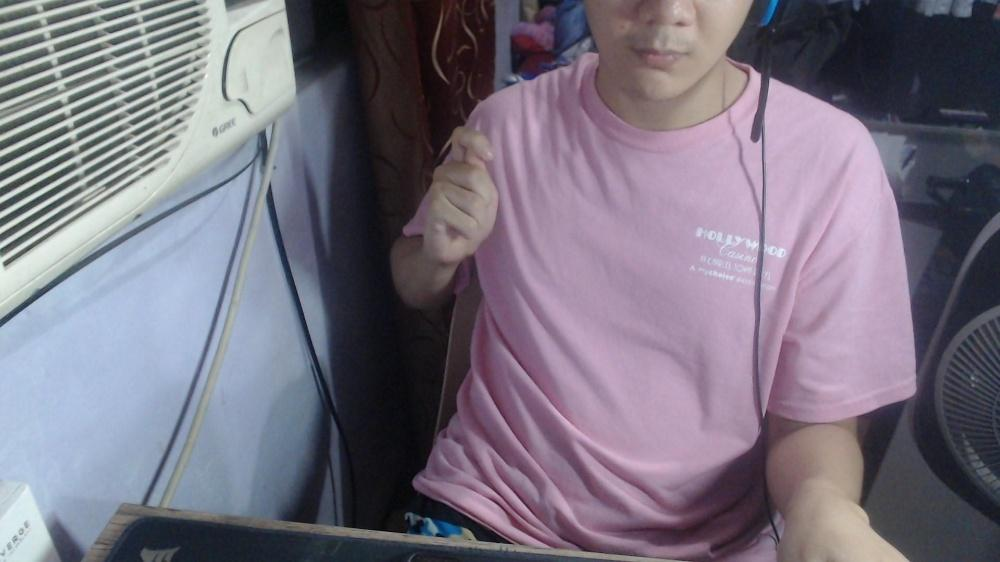t: (420, 123, 500, 266)
